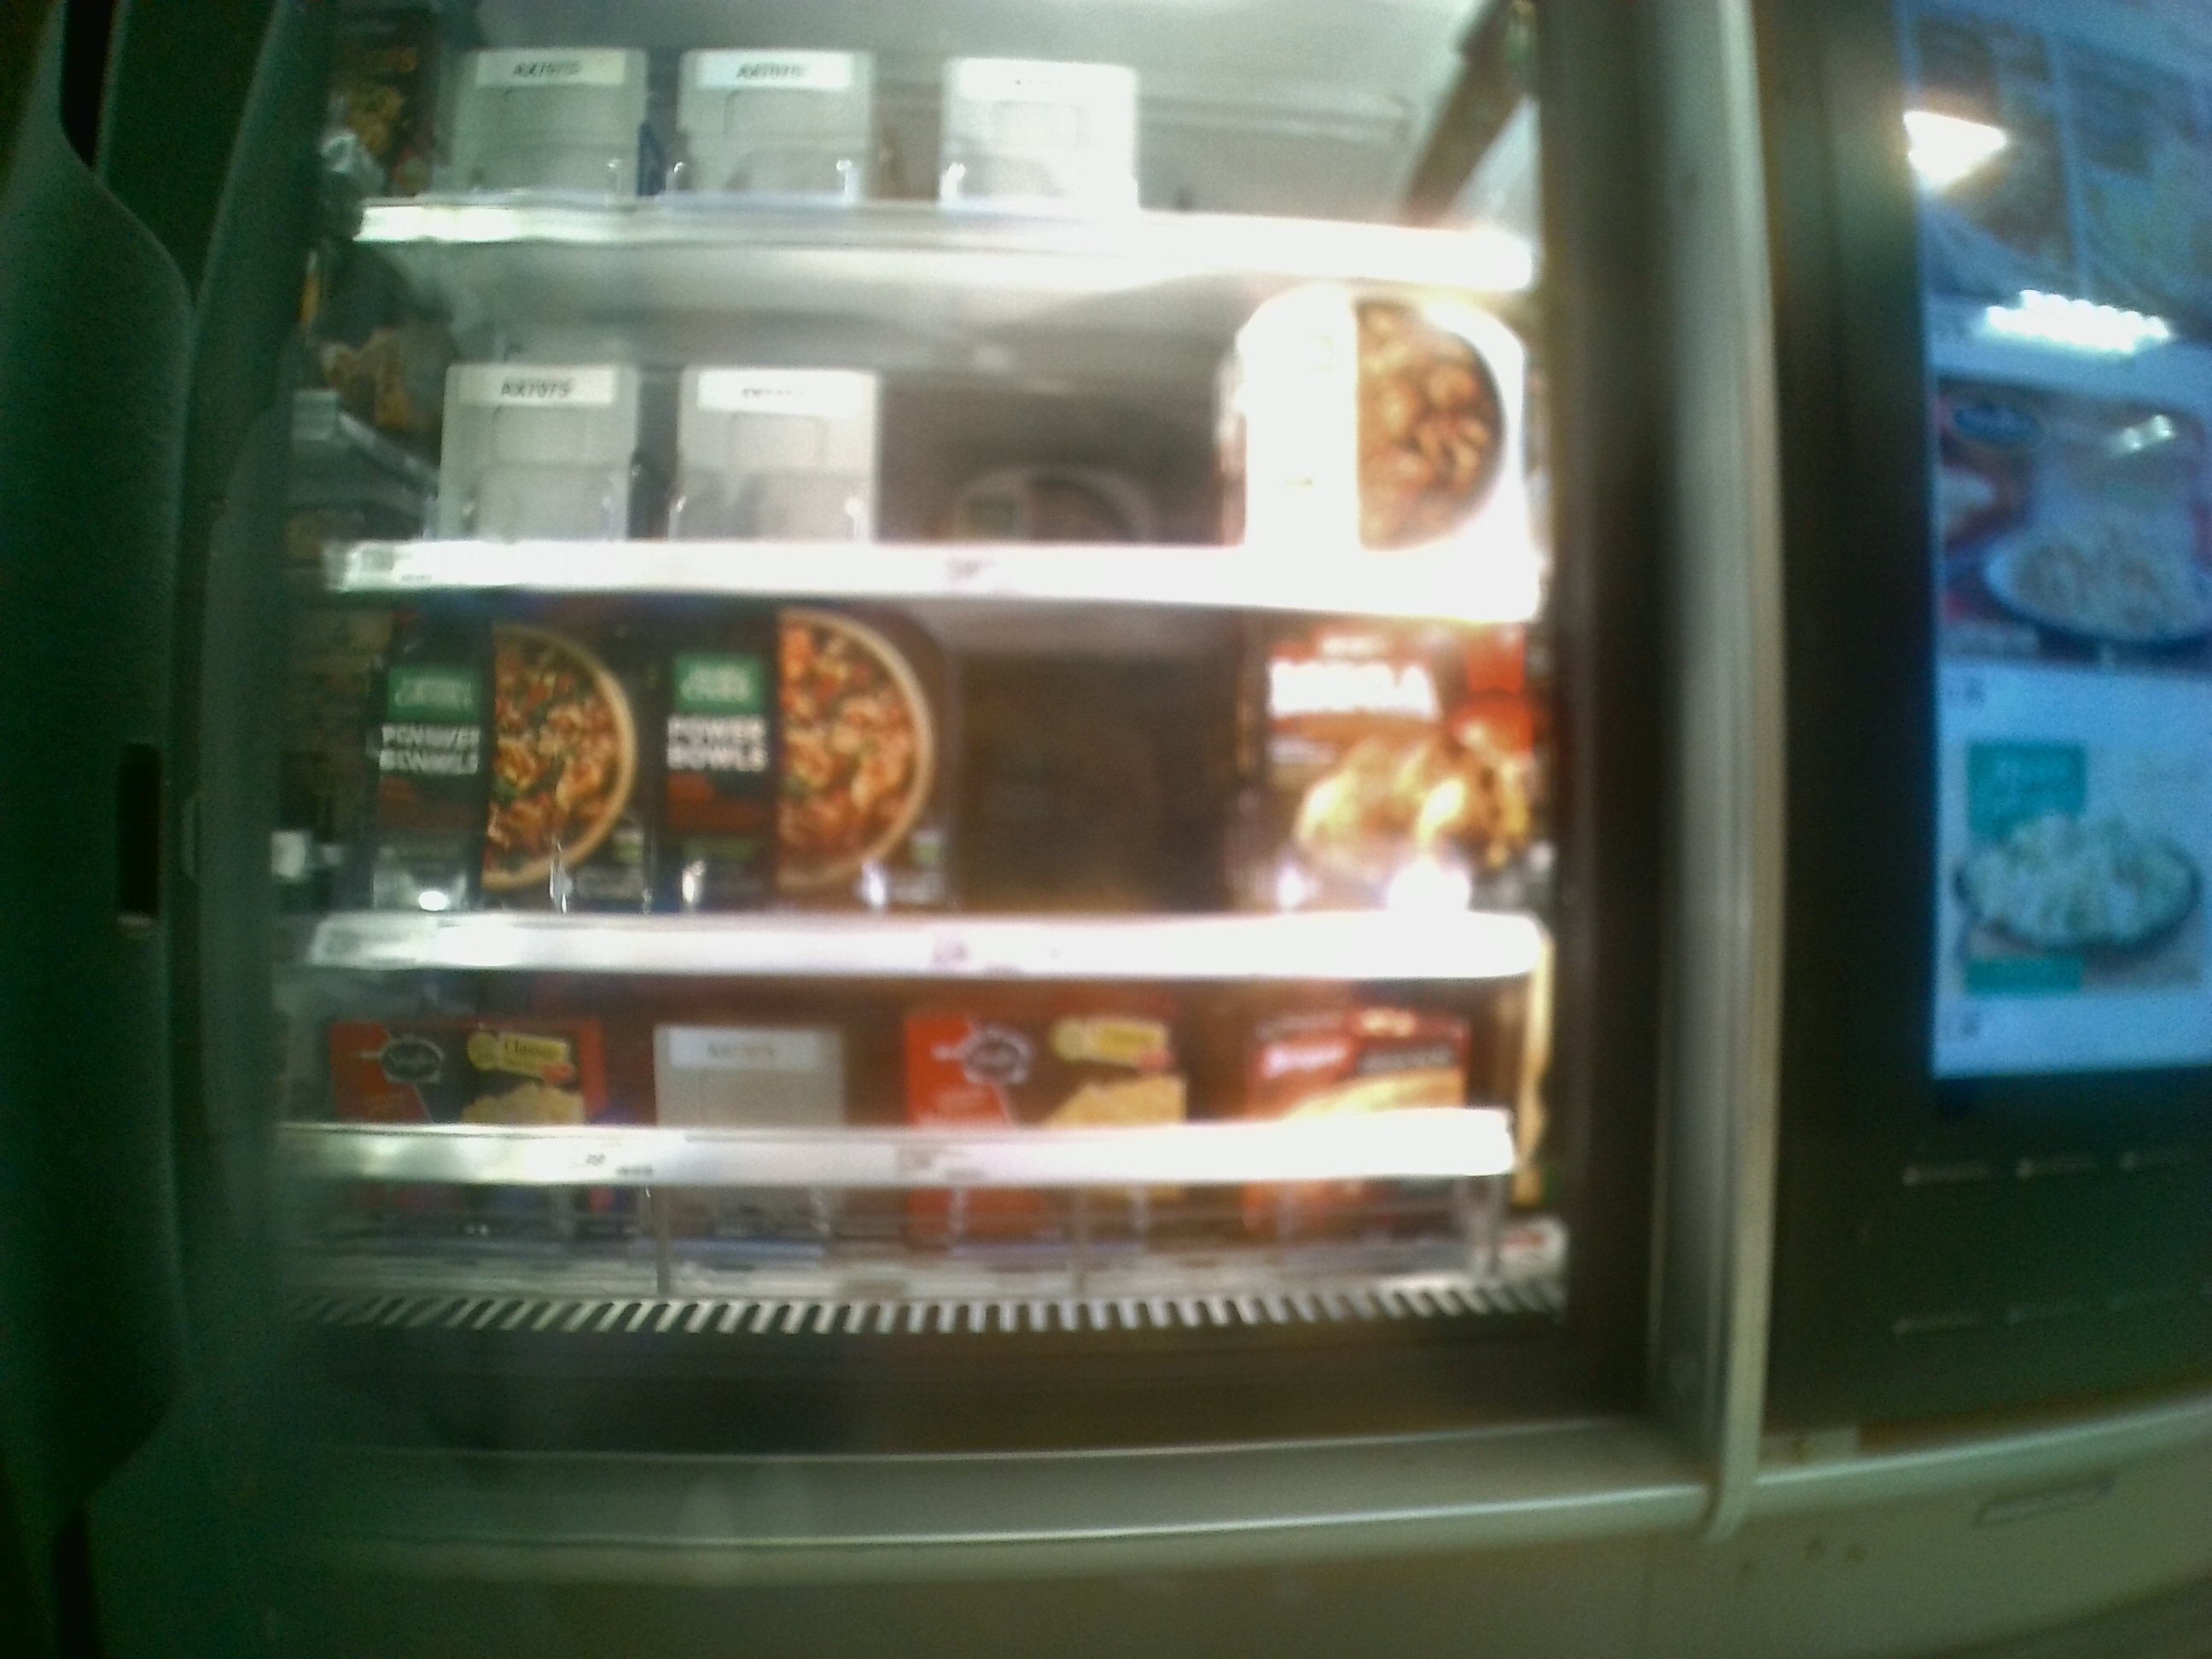shelf: (298, 587, 1575, 983), (303, 958, 1588, 1349), (319, 237, 1545, 619)
